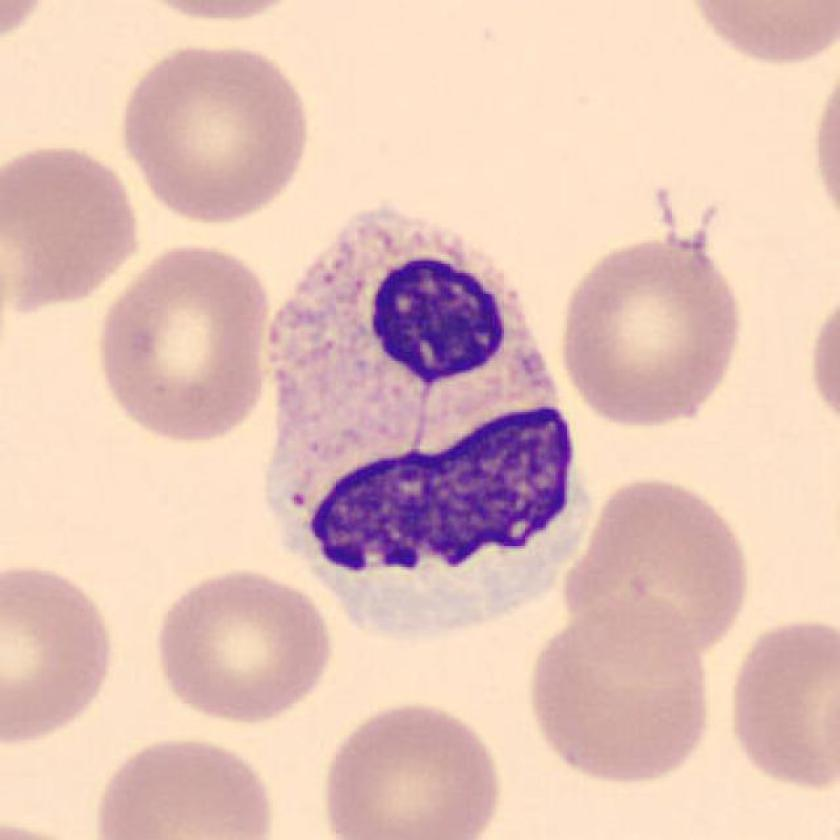neutrophil: (265, 206, 592, 639)
